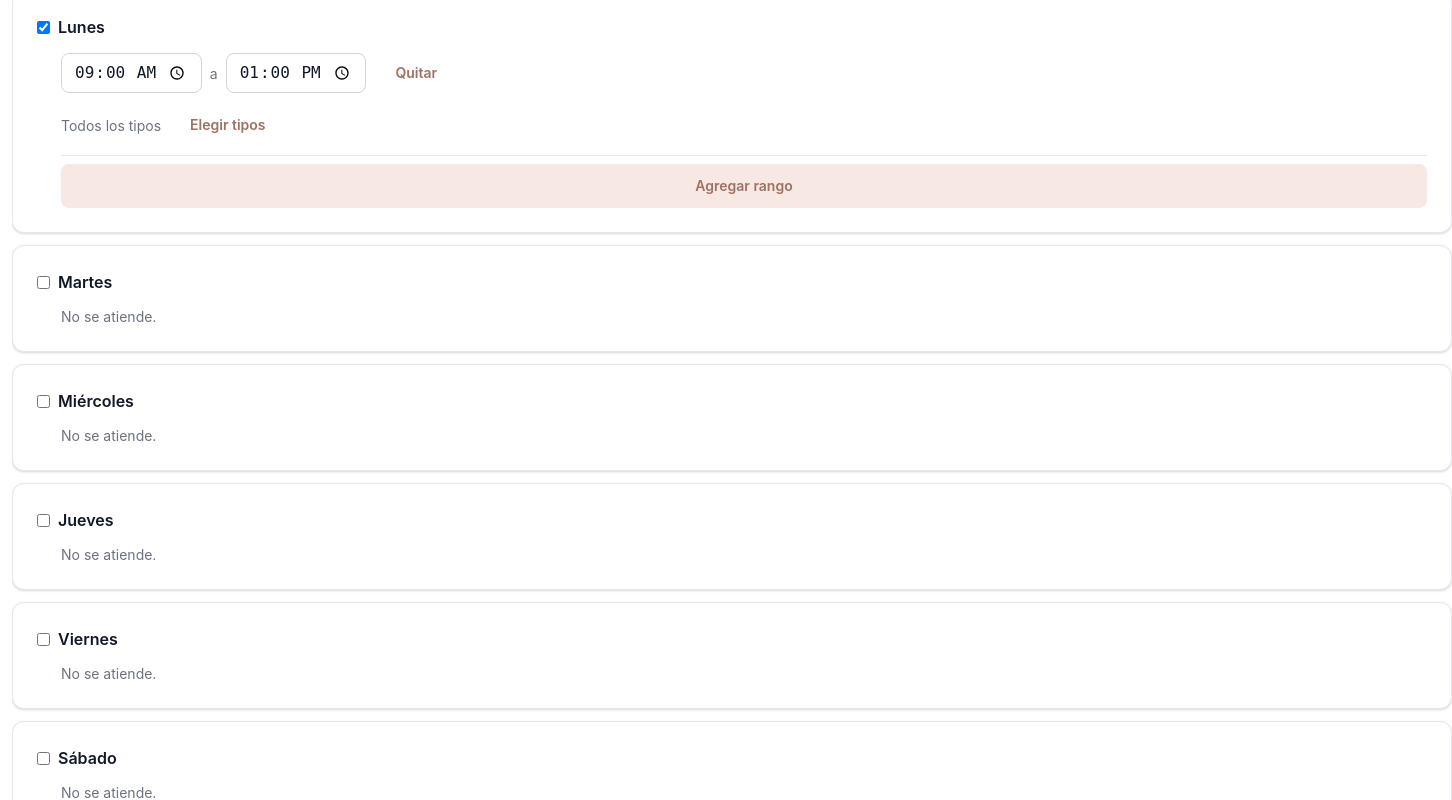
Test: ScheduleEditor › Visit Kinds per range › refuses to save a range that accepts no kind
The image size is (1452, 800).
Click the button "Elegir tipos" at (228, 125), box [169, 103, 287, 147]
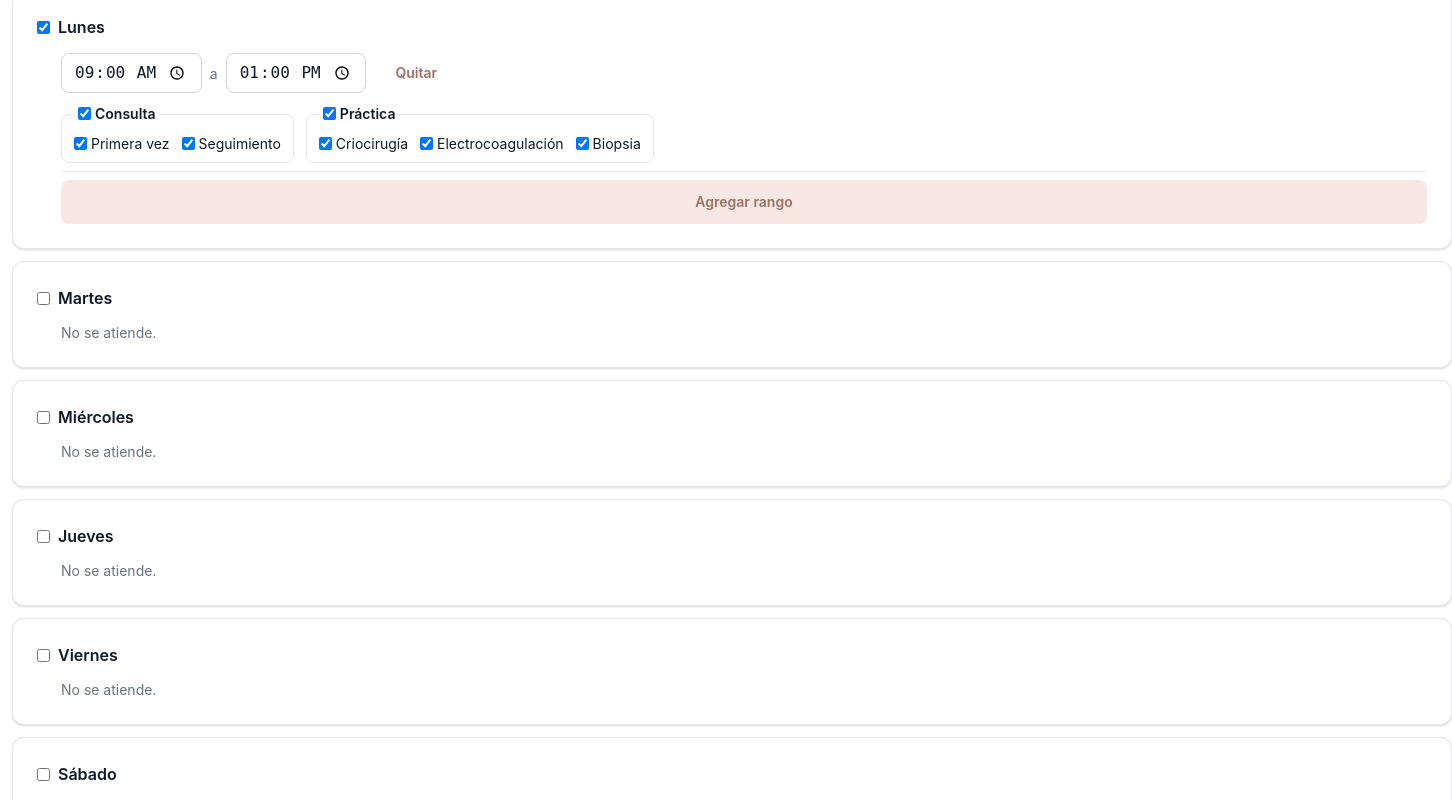
Click the checkbox labelled "Consulta" at (84, 114), box [78, 107, 91, 120]
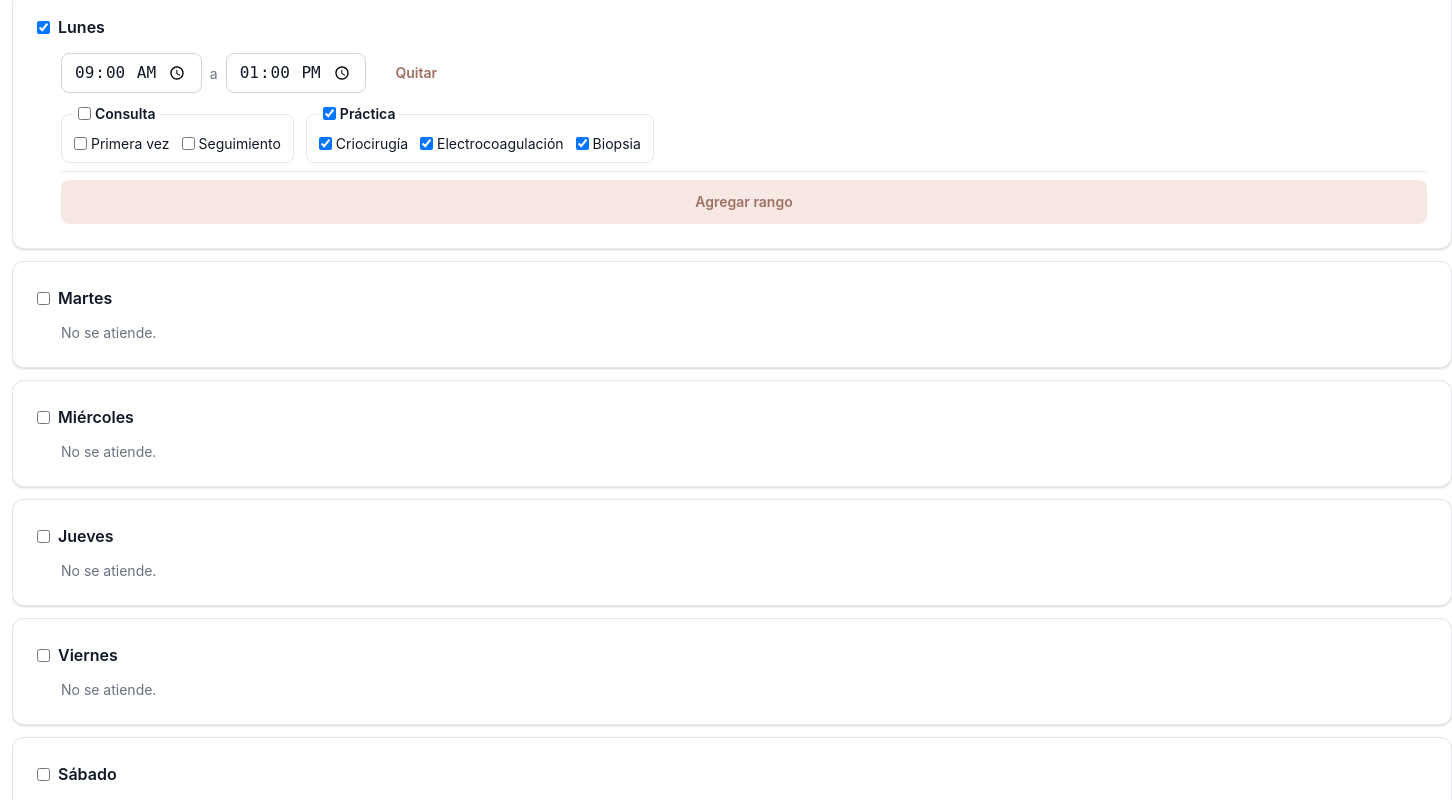
Click the checkbox labelled "Práctica" at (329, 114), box [323, 107, 336, 120]
(page scrolled)
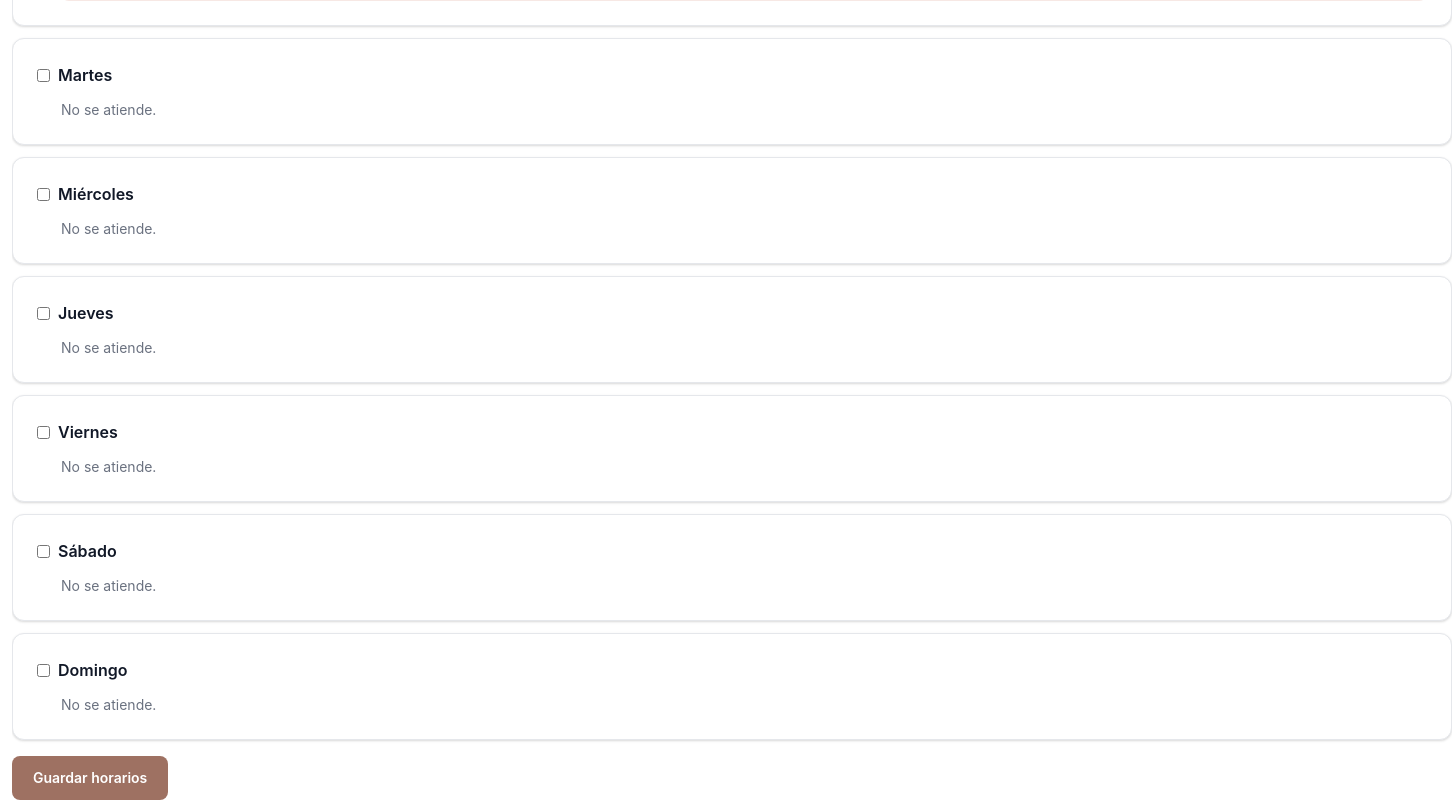
Click the button "Guardar horarios" at (90, 778), box [12, 756, 168, 799]
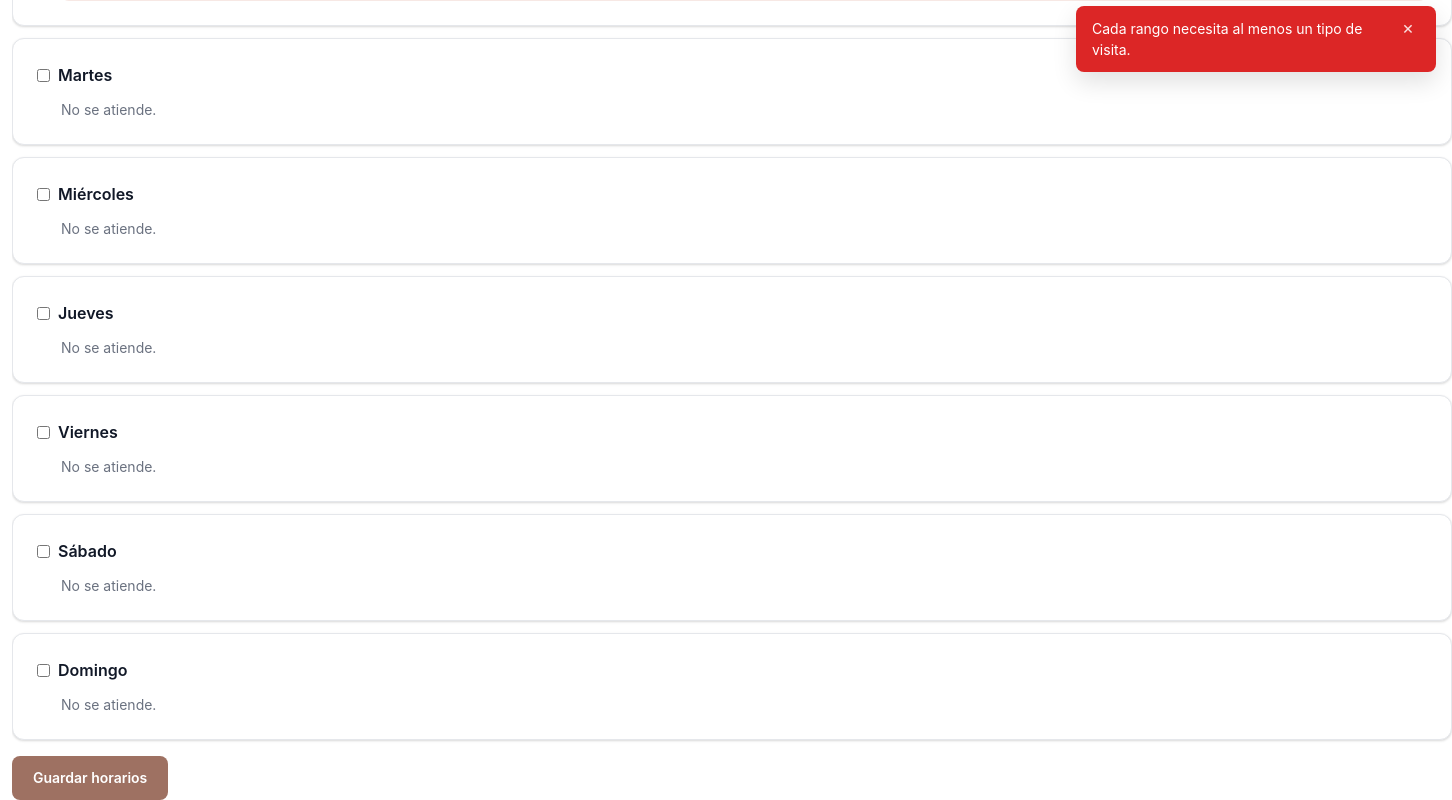
Result: the message shows "Cada rango necesita al menos un tipo de visita." at [1092, 20, 1362, 58]
